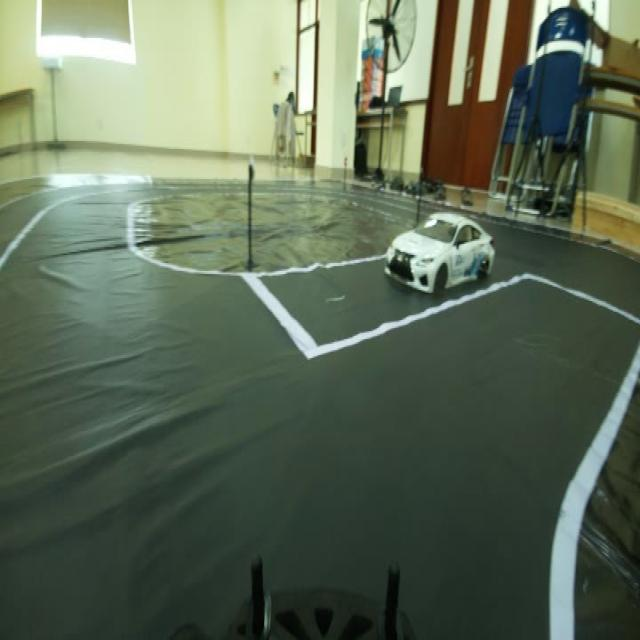car: (382, 197, 492, 304)
